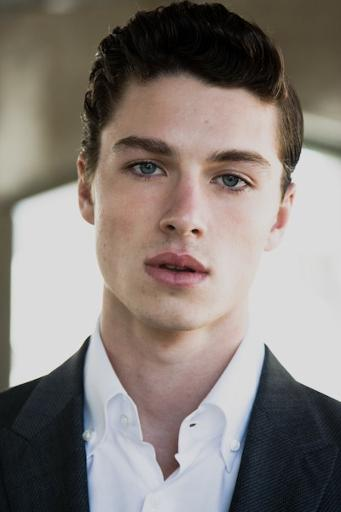left_eye: (210, 172, 257, 193)
left_lip_corner: (202, 265, 215, 285)
right_eye: (121, 159, 169, 182)
right_lip_corner: (138, 257, 155, 278)
